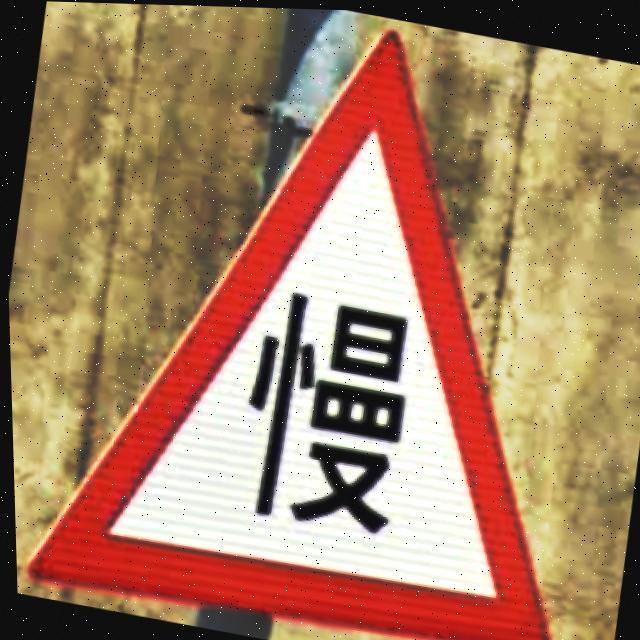slow: (27, 29, 546, 640)
